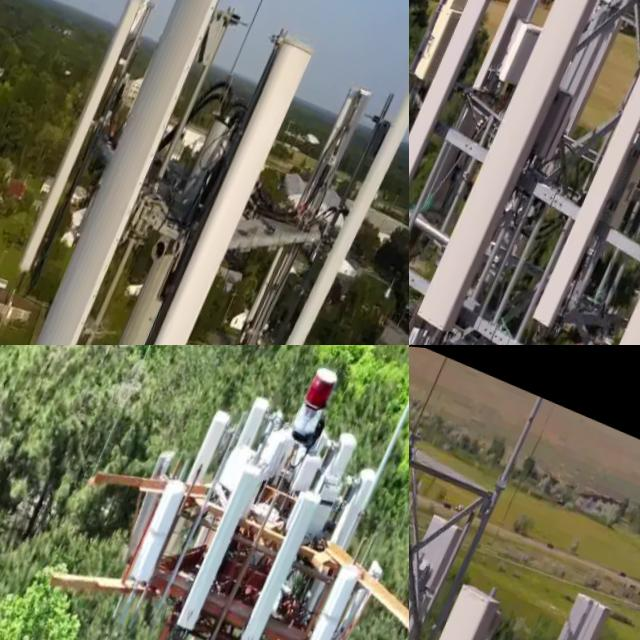GSM Antenna: (10, 0, 263, 345), (91, 4, 328, 345), (420, 0, 626, 340), (489, 0, 640, 272), (19, 0, 161, 277), (283, 37, 409, 345), (244, 63, 378, 345), (527, 31, 640, 345), (441, 0, 588, 178), (409, 0, 514, 242), (173, 436, 280, 640), (235, 453, 347, 640), (124, 464, 207, 603), (409, 490, 472, 640), (298, 535, 381, 640), (126, 437, 187, 549), (185, 394, 244, 489), (236, 382, 278, 453)
